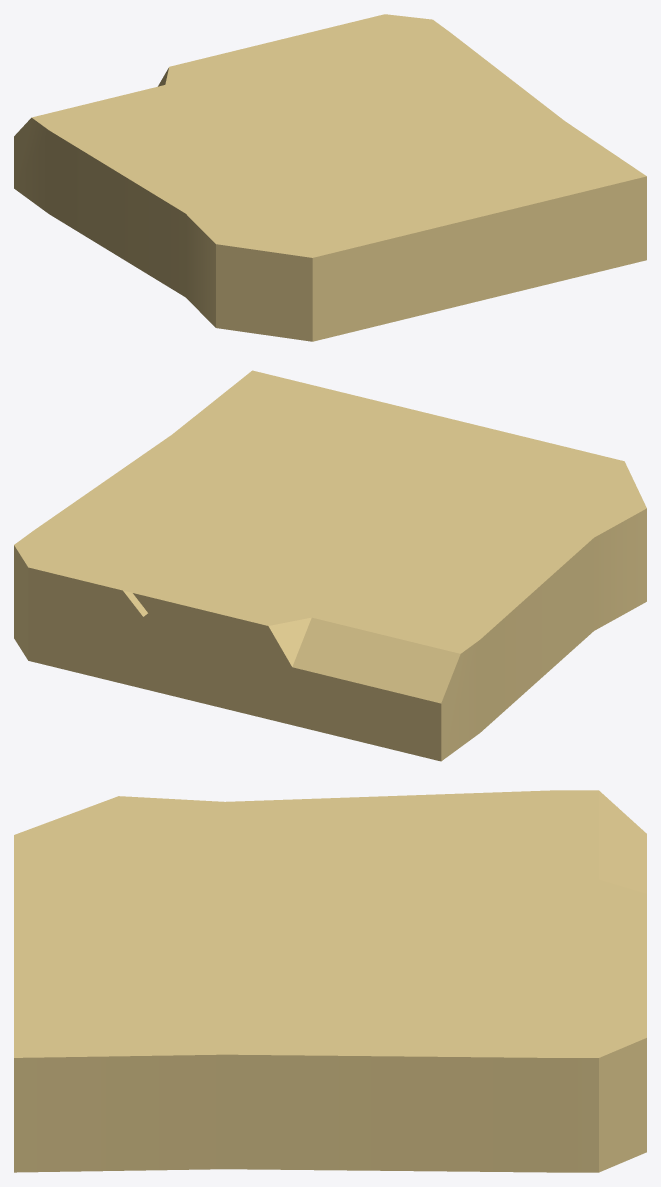
File: Carved_Stones_8.fbx
3 views of the same model, one above another, from view 1: azimuth 30°, elevation 25°; view 2: azimuth 150°, elevation 25°; view 3: azimuth 270°, elevation 25° (orthographic). The views are drawn at different scales.
Parts seen in each view (by area): view 1: MESH_Carved_Stones_8; view 2: MESH_Carved_Stones_8; view 3: MESH_Carved_Stones_8.
Boxes of the visible parts, box(x1,y1,x2,y2) form: MESH_Carved_Stones_8: box(14, 14, 646, 341); MESH_Carved_Stones_8: box(14, 370, 646, 761); MESH_Carved_Stones_8: box(14, 790, 646, 1172).
Bounding box in the file's own units: 1.96 × 0.3905 × 1.96.
